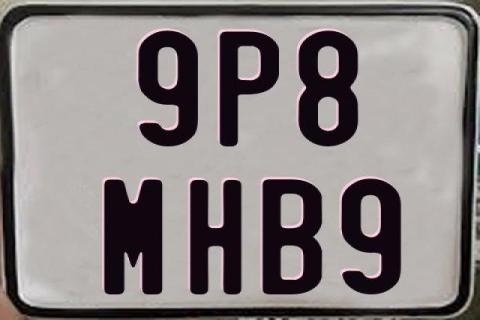0: (137, 30, 203, 150), (342, 177, 404, 297), (298, 29, 359, 147)
B: (261, 177, 324, 292)
H: (188, 177, 244, 297)
M: (102, 178, 163, 296)
P: (217, 31, 276, 147)
